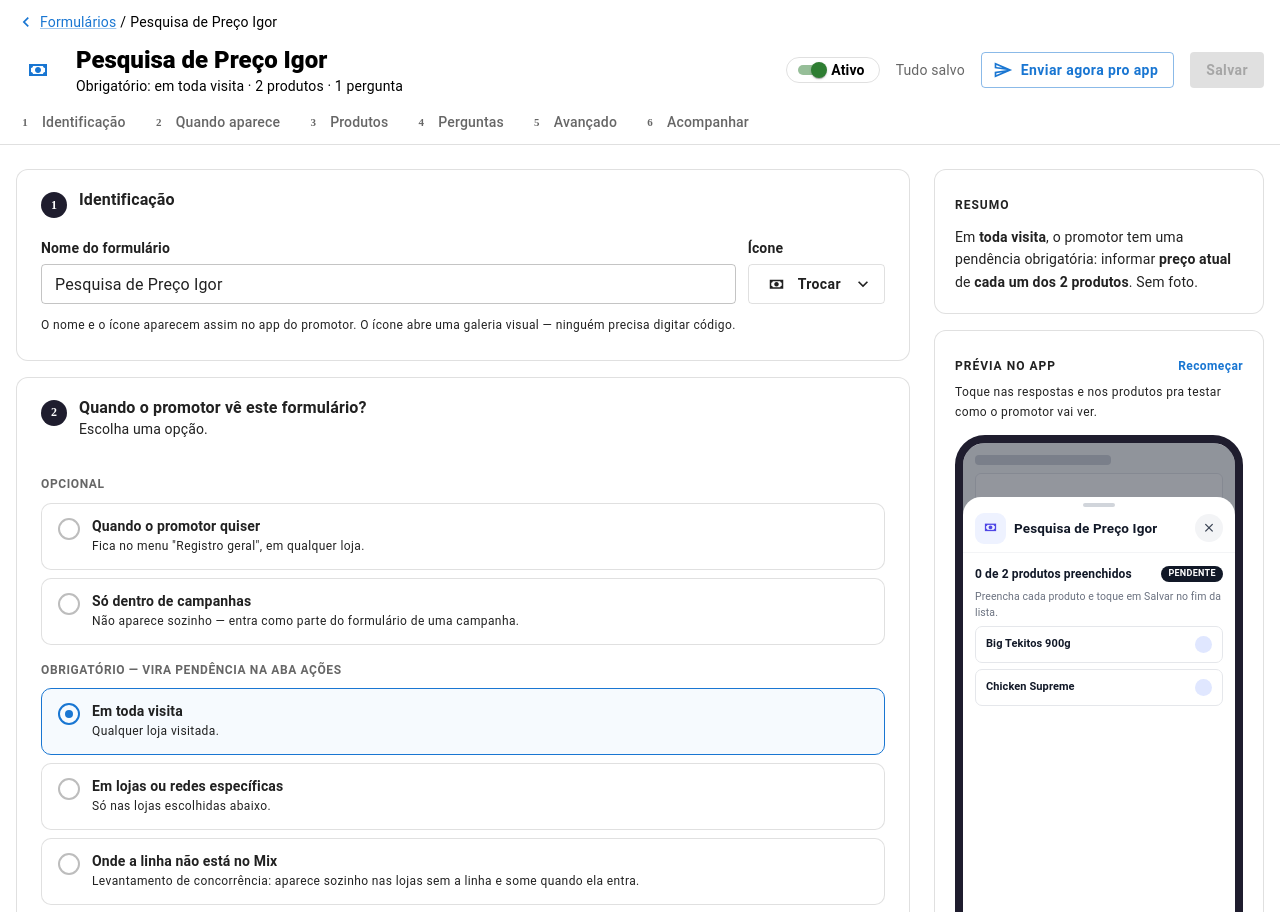
it: TipoRegistroFormPage (editor de formulário) › aba "Perguntas" entra no modo foco: as outras seções viram resumo com Editar
Expected: the text "Tudo salvo" is shown, x1=896 y1=60 x2=965 y2=80
Click the text "Perguntas". click: (471, 122)
box: x1=438 y1=112 x2=504 y2=132
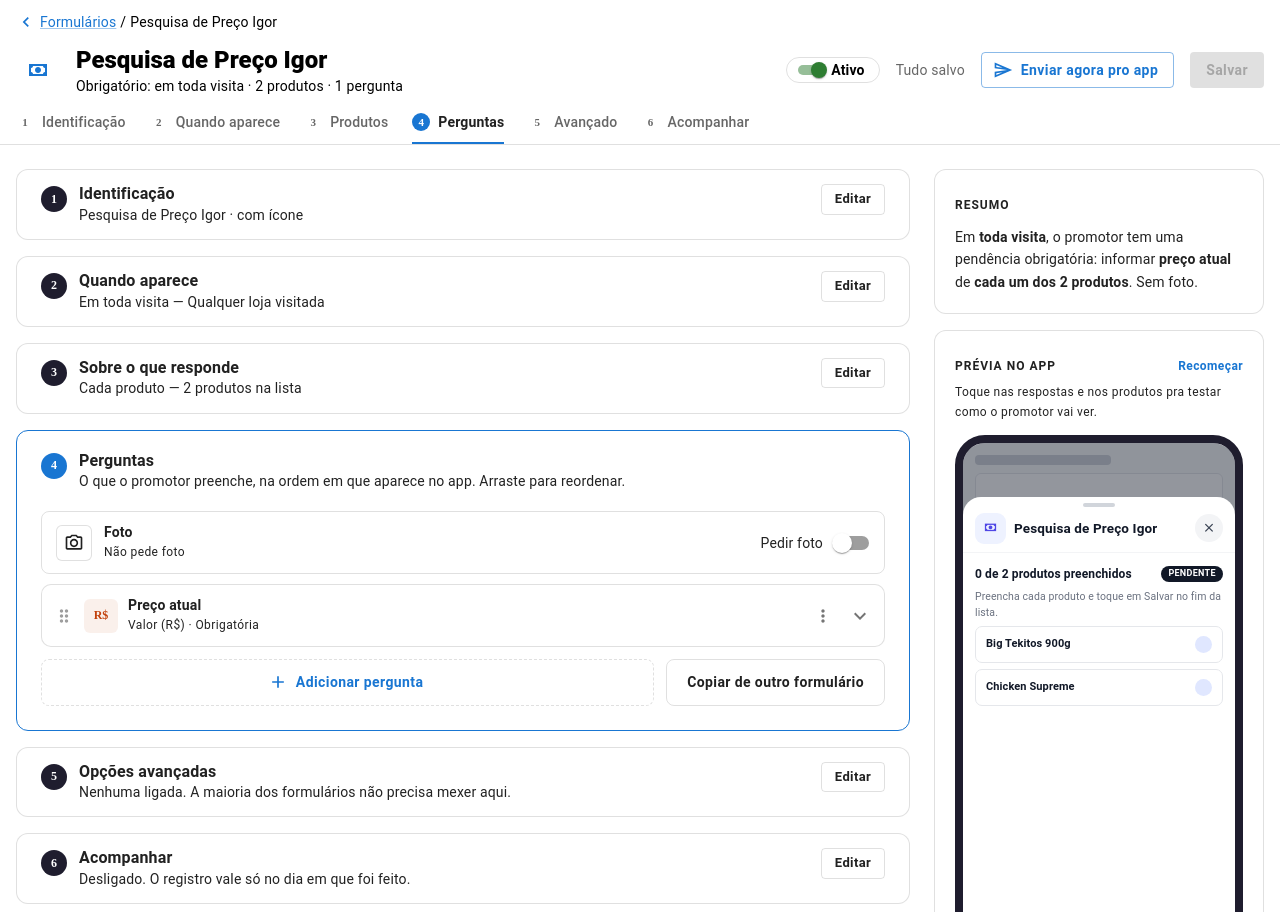
Now the number of buttons "Editar" is 5, box x1=821 y1=184 x2=885 y2=215; x1=821 y1=271 x2=885 y2=302; x1=821 y1=358 x2=885 y2=388; x1=821 y1=762 x2=885 y2=792; x1=821 y1=848 x2=885 y2=879
Now the text "Em toda visita — Qualquer loja visitada" is shown, box x1=79 y1=294 x2=325 y2=310
